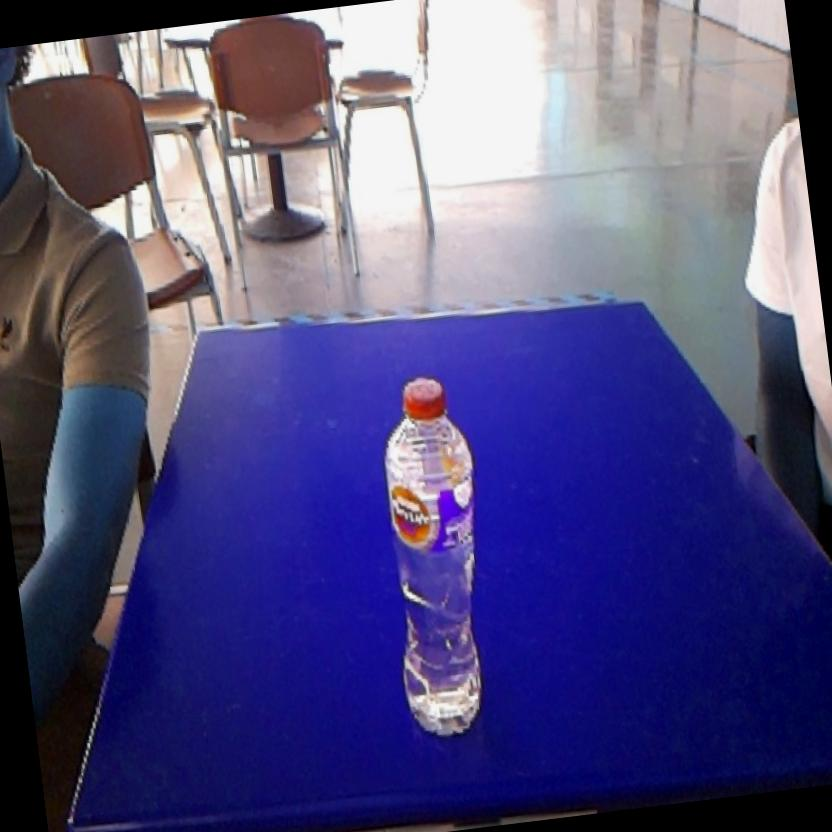good: (359, 358, 512, 750)
